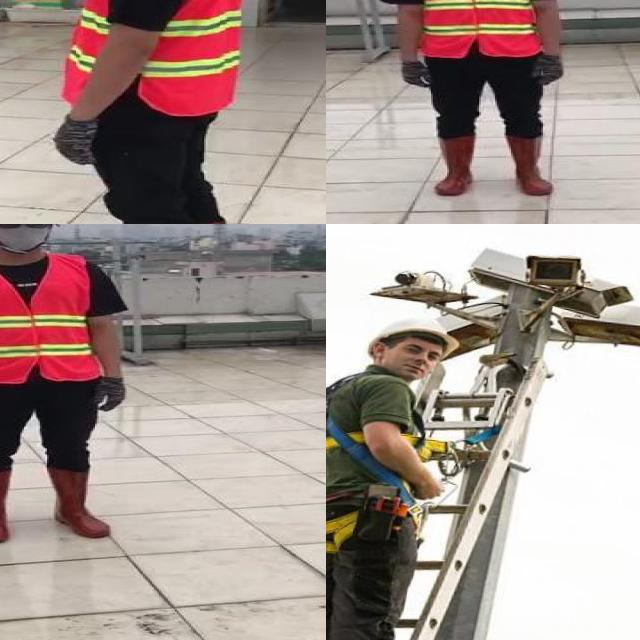Harness: (326, 374, 403, 490)
boots: (45, 466, 111, 540), (506, 132, 557, 196), (431, 135, 483, 196), (0, 470, 11, 544)
face_mask: (0, 224, 51, 250)
glasses: (0, 224, 56, 231)
hand_glove: (50, 115, 109, 166), (88, 376, 129, 414), (532, 55, 568, 86), (399, 60, 433, 87)
person: (38, 0, 252, 224), (0, 224, 143, 545), (379, 0, 582, 199)
vest: (49, 0, 244, 117), (0, 253, 102, 386), (415, 0, 536, 59)
